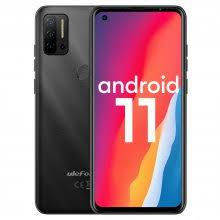Smartphone: (90, 10, 186, 215), (32, 11, 101, 210)
